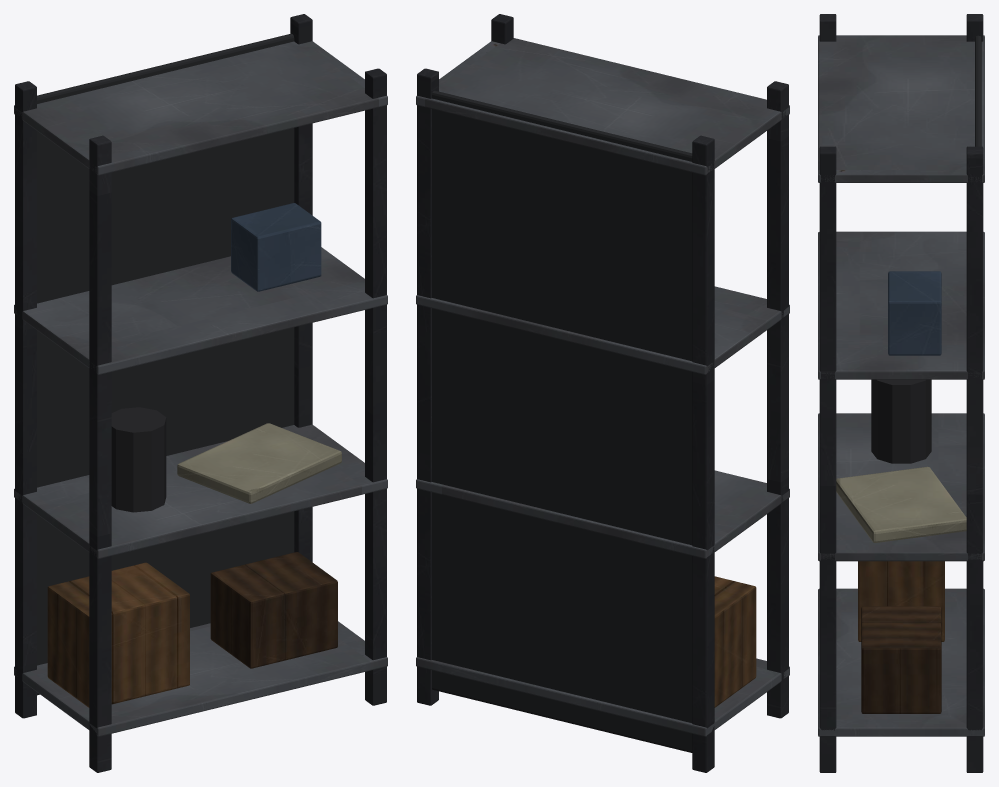
The model's file is alcove_shelf.glb.
3 views of the same model, side by side, from view 1: azimuth 30°, elevation 25°; view 2: azimuth 150°, elevation 25°; view 3: azimuth 270°, elevation 25° (orthographic).
Parts seen in each view (by area): view 1: body; view 2: body; view 3: body.
Boxes of the visible parts, left/top/right/bottom form: body: left=14, top=14, right=387, bottom=772; body: left=416, top=14, right=789, bottom=772; body: left=818, top=14, right=984, bottom=772.
Bounding box in the file's own units: 0.99 × 2.05 × 0.5.
8 materials, 7 textured.
